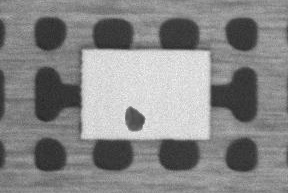DIE_INK: (182, 70, 219, 90)
